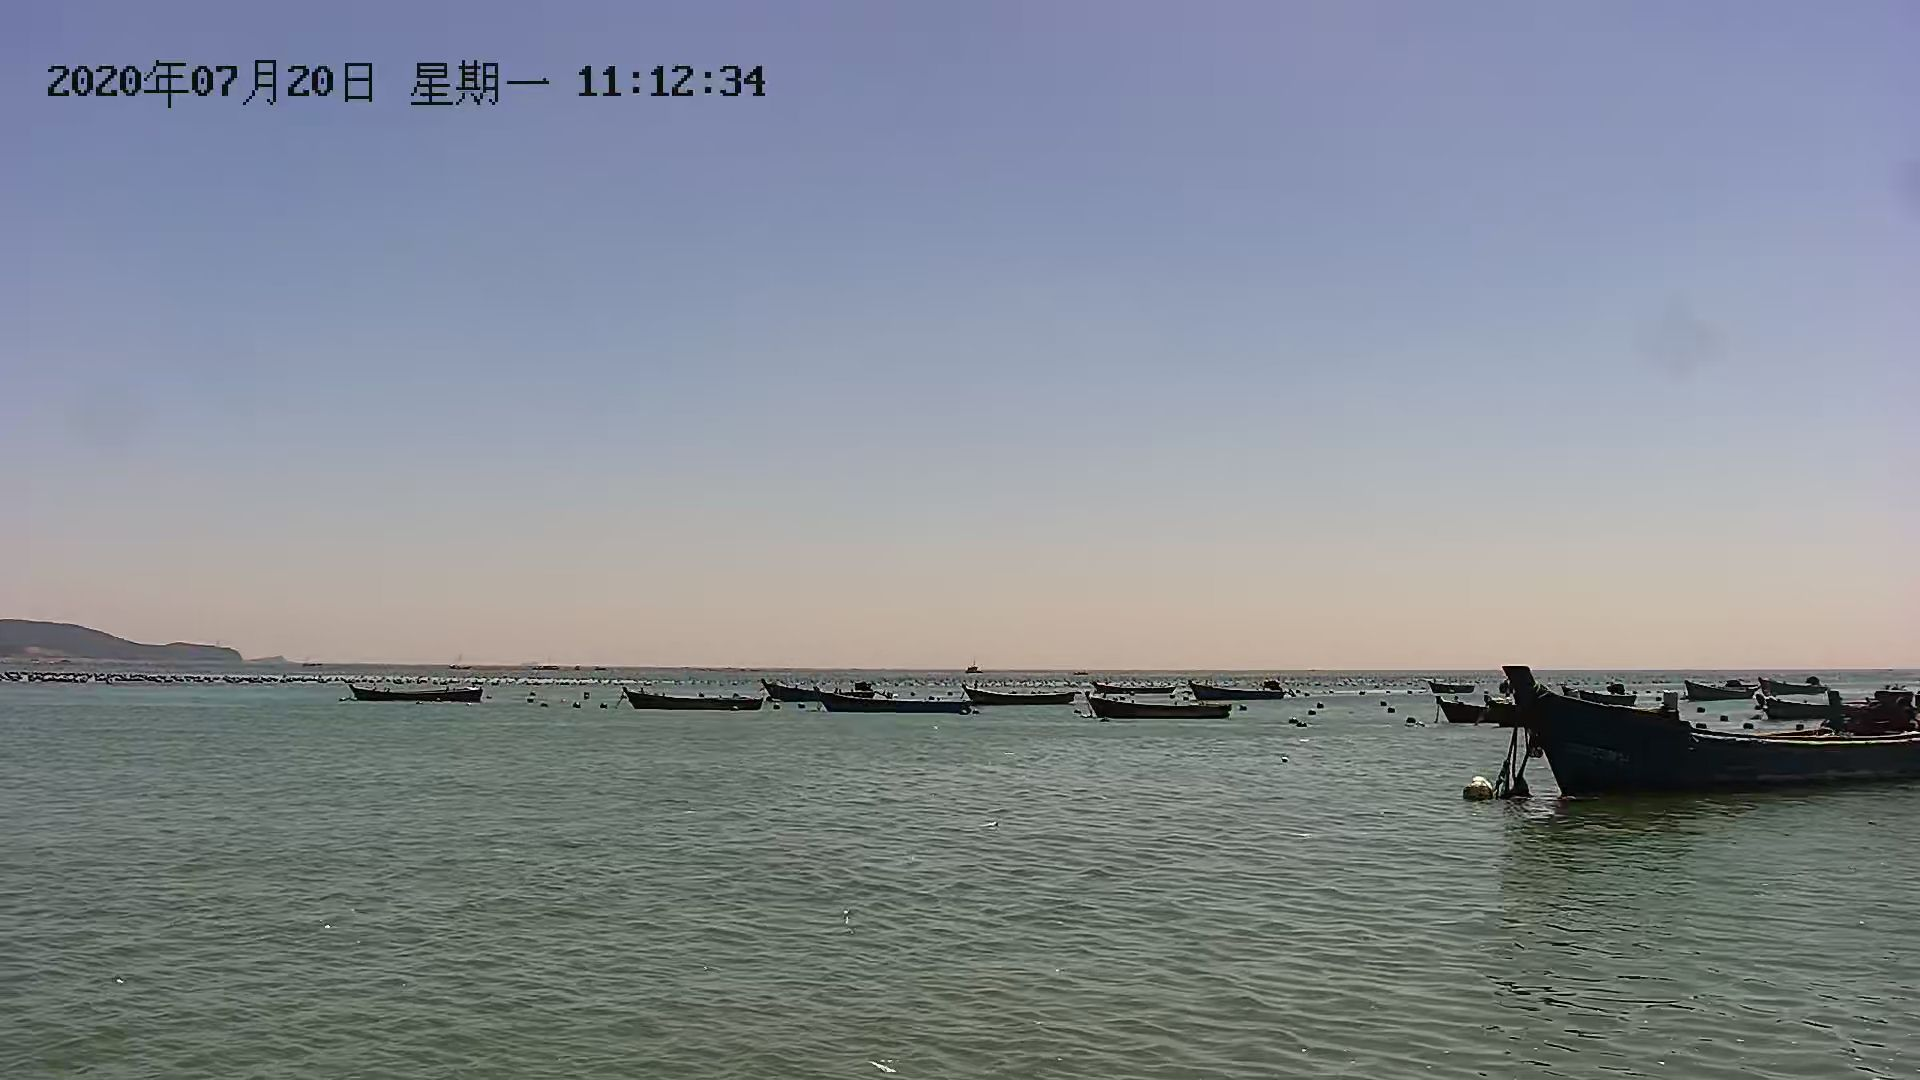ball: (1458, 781, 1495, 806)
boat: (1495, 667, 1920, 796), (1751, 682, 1870, 723), (612, 687, 770, 715), (1429, 694, 1552, 728), (1184, 671, 1302, 705), (812, 698, 982, 720), (1077, 699, 1244, 720), (955, 687, 1092, 709), (343, 682, 487, 702)
rock: (1, 618, 262, 675)
